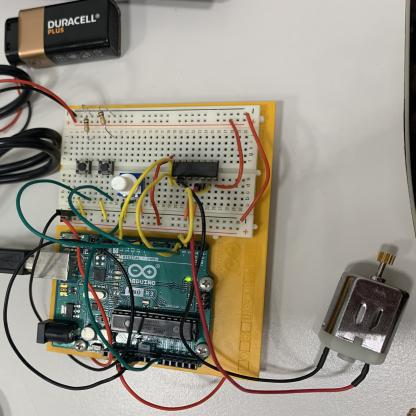5V: (60, 216, 113, 361), (116, 364, 227, 411), (90, 357, 113, 369)
ARDUINO: (53, 233, 213, 367)
Battery: (0, 0, 123, 123)
Breadboard: (56, 107, 262, 237)
Button: (98, 160, 114, 175), (75, 160, 91, 174)
DC Motor: (169, 178, 412, 398)
GND: (2, 244, 131, 391), (30, 239, 135, 371)
H Bridge: (171, 161, 219, 178)
Long wire: (83, 199, 161, 370), (16, 179, 167, 251), (68, 185, 181, 254), (118, 157, 170, 245), (240, 112, 270, 222), (135, 173, 171, 249), (216, 119, 244, 189), (151, 156, 174, 224), (177, 187, 194, 246)
Potentiometer: (110, 173, 141, 197), (132, 178, 145, 197)
Resistor: (98, 109, 106, 126), (83, 117, 89, 133)
Short wire: (182, 200, 192, 219), (76, 198, 85, 218), (98, 200, 107, 219), (190, 202, 199, 219), (124, 204, 129, 224), (140, 198, 142, 215)
